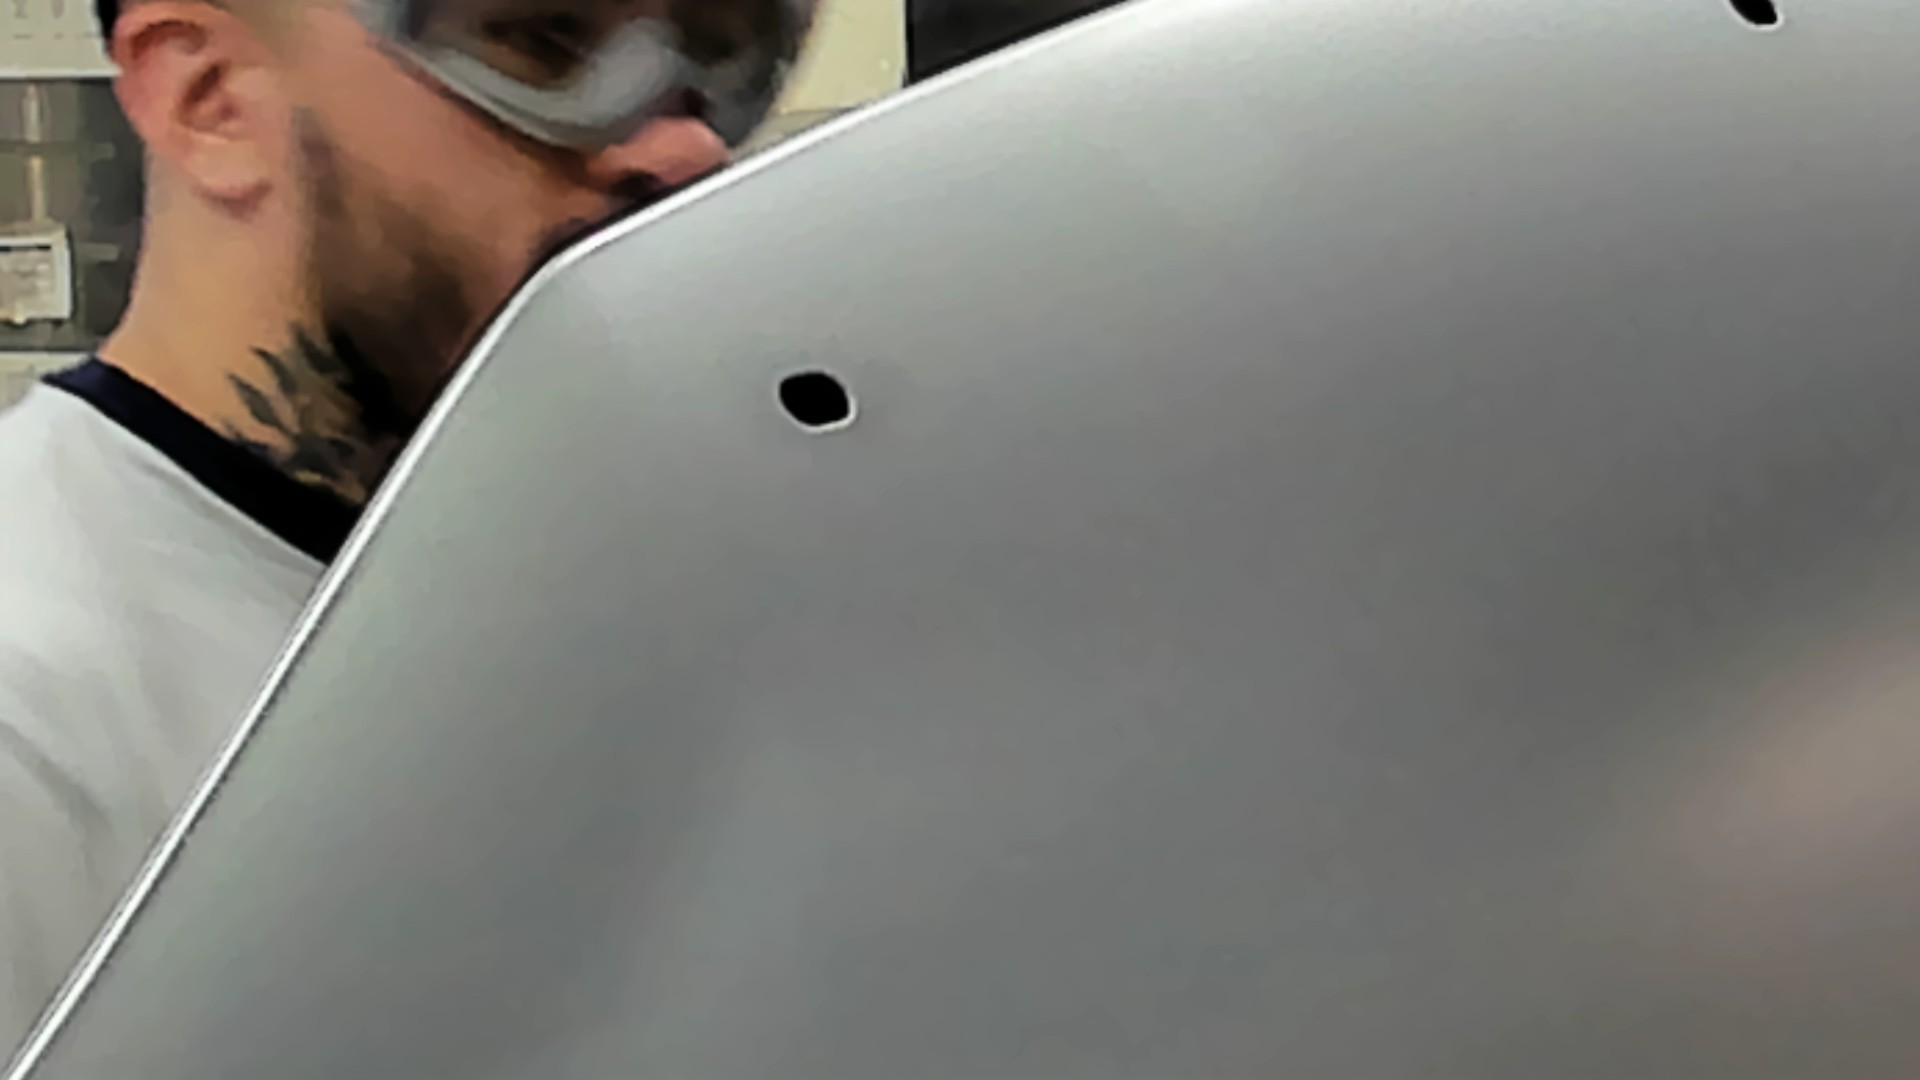amorfo: (769, 356, 861, 438), (1720, 1, 1785, 32)
capo: (898, 128, 1920, 1080)
